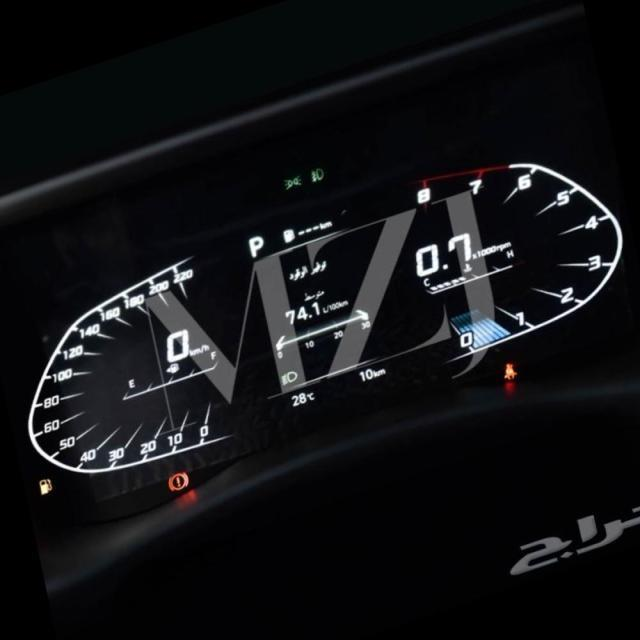Seat Belt: (504, 362, 516, 380)
